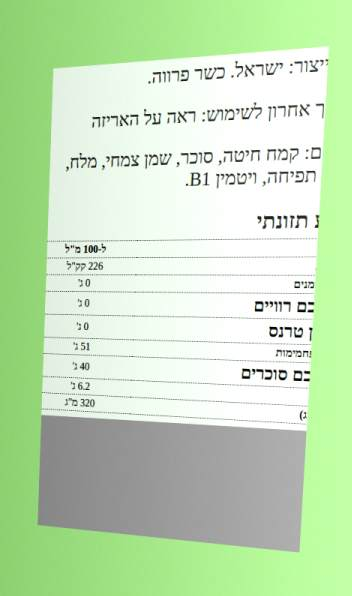carbs: (72, 339, 92, 354)
energy: (65, 259, 105, 273)
fat: (76, 276, 92, 290)
protein: (69, 378, 92, 394)
